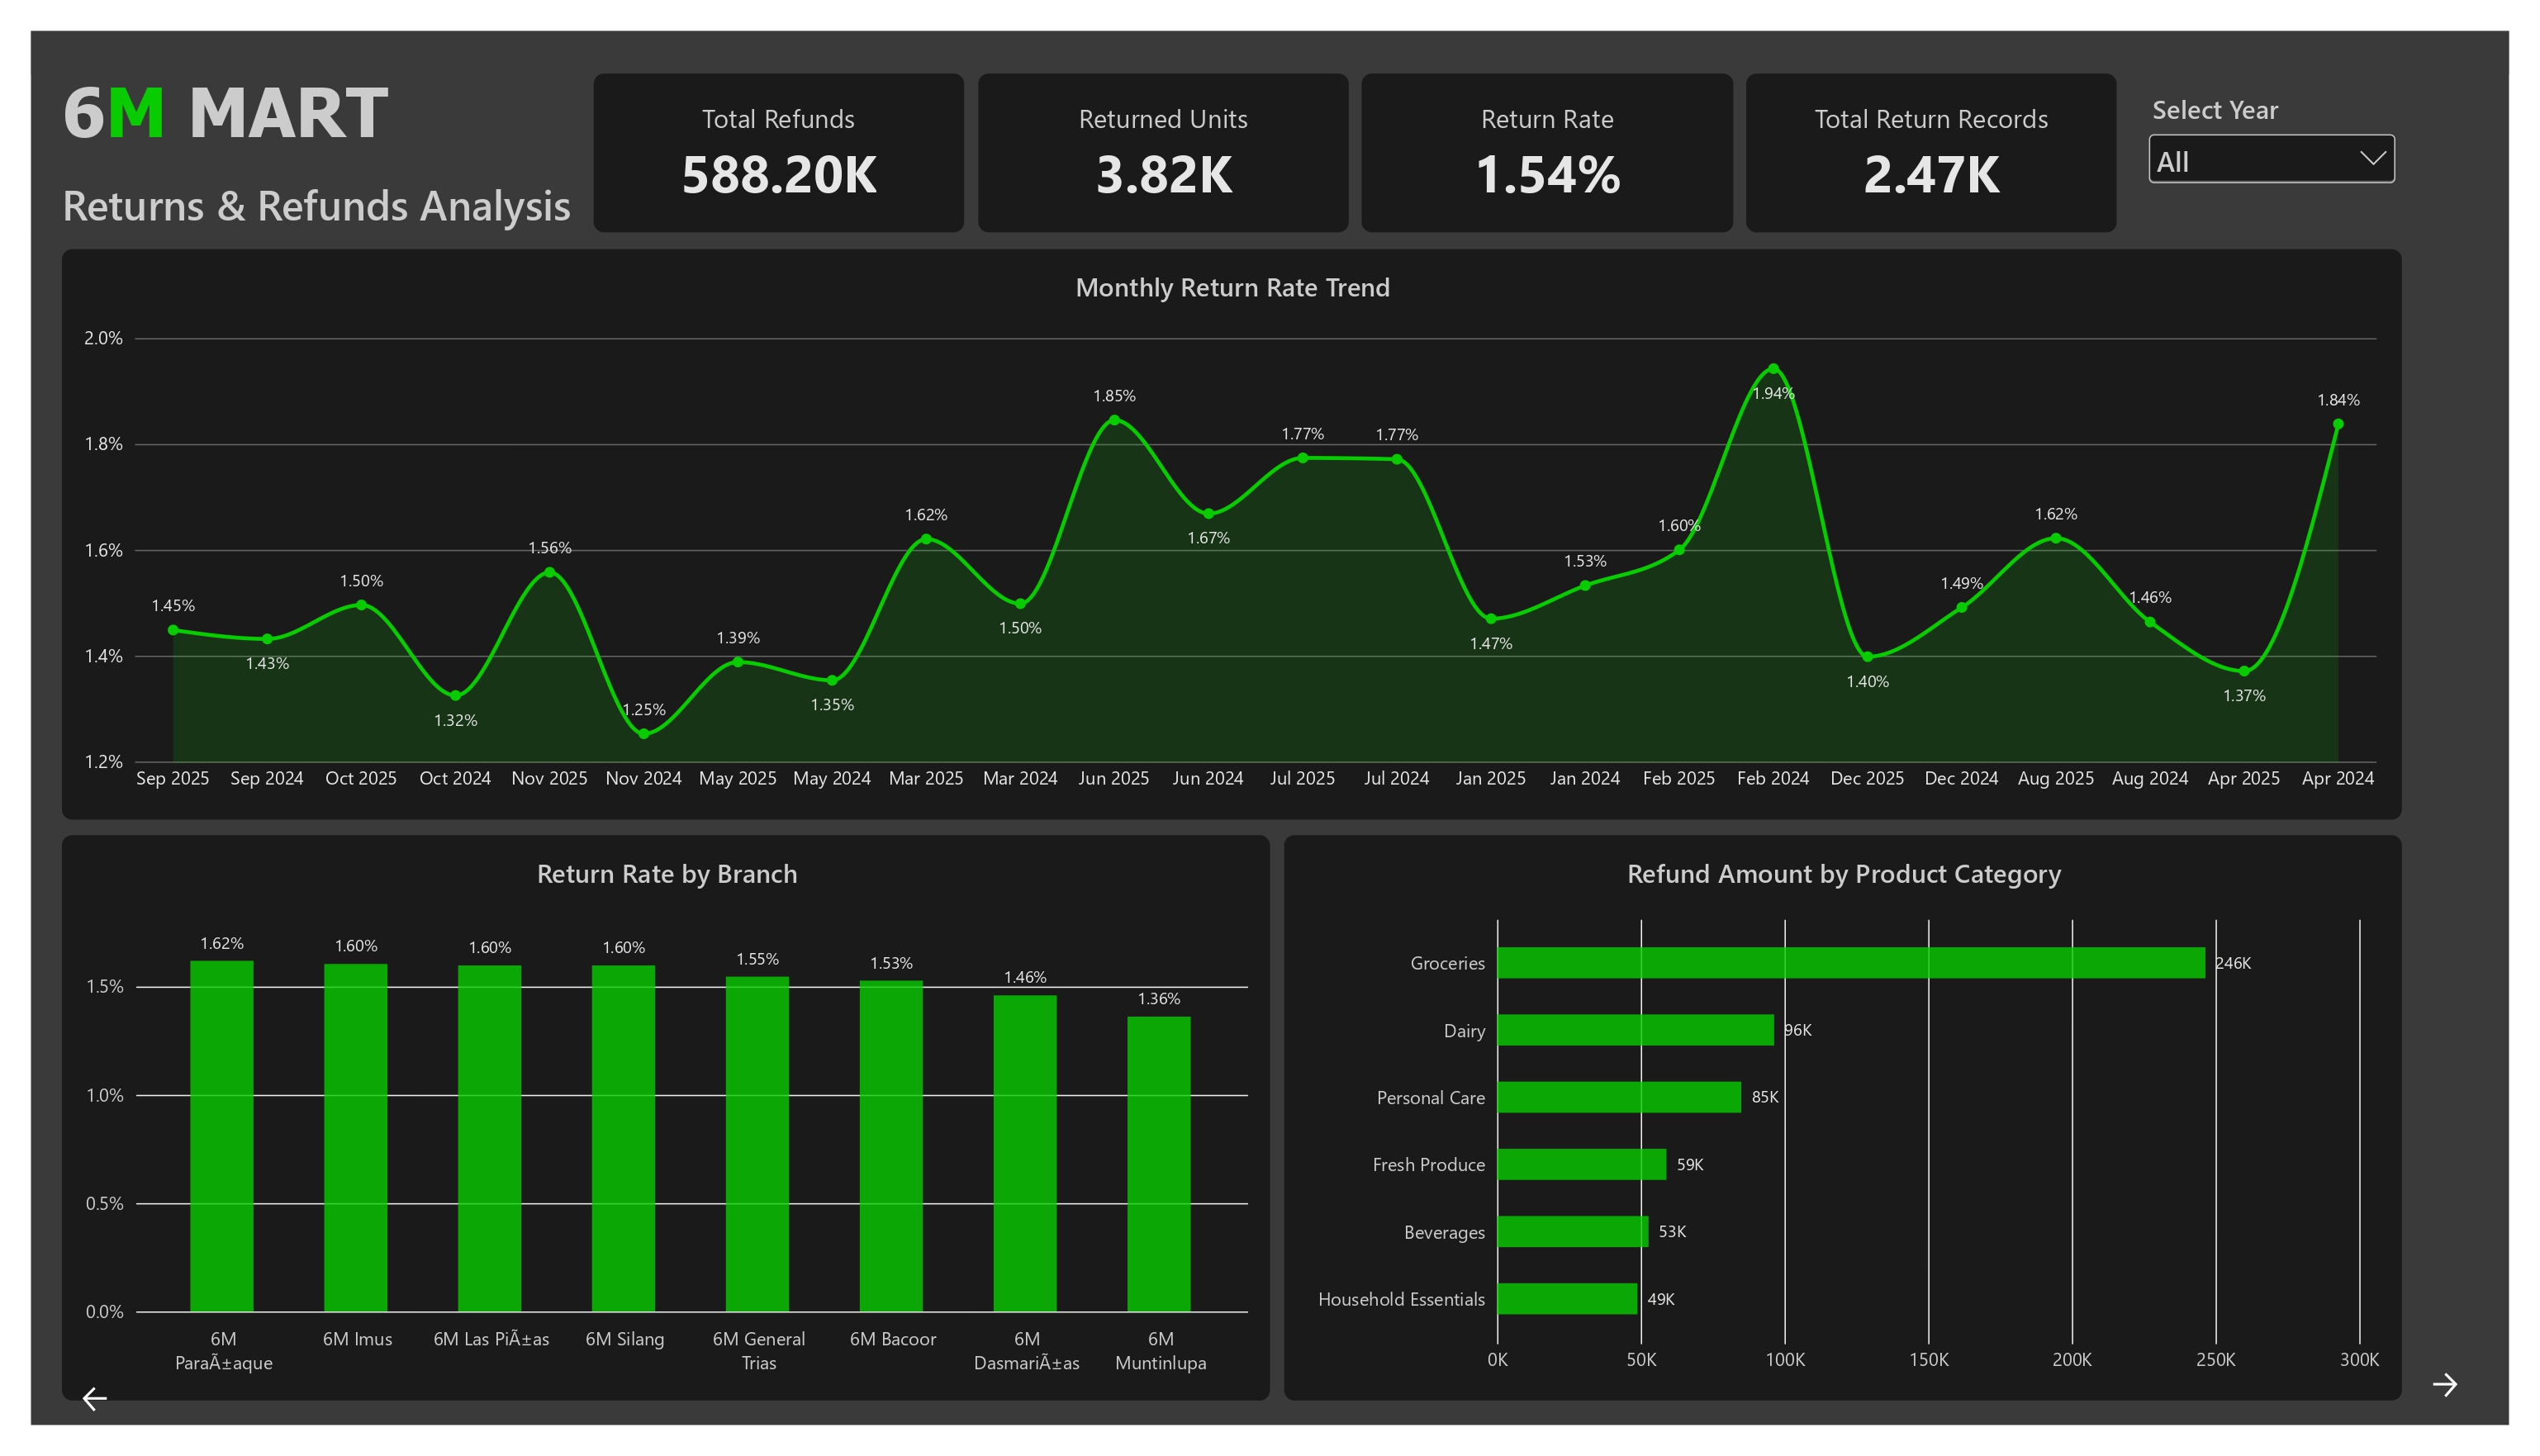

This screenshot's page, from the dashboard's own definition file:
{"tool":"powerbi","page":{"name":"Returns & Refunds Analysis","canvas":[1920,1080],"ordinal":5},"visuals":[{"type":"textbox","box":[24.3,28.6,402.9,130],"z":0},{"type":"slicer","fields":{"Values":["public dim_date.year"]},"box":[1635.7,45.7,201.4,95.7],"z":1000},{"type":"cardVisual","fields":{"Data":["_Measures.Total Refunds"]},"box":[435.7,32.9,287.1,122.9],"z":2000},{"type":"cardVisual","fields":{"Data":["_Measures.Total Returned Units"]},"box":[734.3,32.9,287.1,122.9],"z":3000},{"type":"cardVisual","fields":{"Data":["_Measures.Return Rate (Sales Cohort)"]},"box":[1031.4,32.9,287.1,122.9],"z":4000},{"type":"cardVisual","fields":{"Data":["_Measures.Total Return Records"]},"box":[1328.6,32.9,287.1,122.9],"z":5000},{"type":"lineChart","title":"Monthly Return Rate Trend","fields":{"Category":["public dim_date.Year-Month"],"Y":["_Measures.Return Rate (Sales Cohort)"]},"box":[24.3,168.6,1812.9,442.9],"z":6000},{"type":"clusteredColumnChart","title":"Return Rate by Branch","fields":{"Category":["public dim_branches.branch_name"],"Y":["_Measures.Return Rate (Sales Cohort)"]},"box":[24.3,622.9,935.7,438.6],"z":7000},{"type":"clusteredBarChart","title":"Refund Amount by Product Category","fields":{"Category":["public dim_products.category"],"Y":["_Measures.Total Refunds"]},"box":[971.4,622.9,865.7,438.6],"z":8000},{"type":"actionButton","box":[1820,1028.6,100,40],"z":8001},{"type":"actionButton","box":[0,1040,100,40],"z":8002}]}

Visuals, with their boxes on the page's 1920x1080 design canvas (x1, y1, x2, y2). These are canvas units, not pixel positions in the 2540x1456 screenshot, which may show the page scaled, cropped or inside an application window:
textbox: {"x1": 24, "y1": 29, "x2": 427, "y2": 159}
slicer - public dim_date.year: {"x1": 1636, "y1": 46, "x2": 1837, "y2": 141}
cardVisual - _Measures.Total Refunds: {"x1": 436, "y1": 33, "x2": 723, "y2": 156}
cardVisual - _Measures.Total Returned Units: {"x1": 734, "y1": 33, "x2": 1021, "y2": 156}
cardVisual - _Measures.Return Rate (Sales Cohort): {"x1": 1031, "y1": 33, "x2": 1318, "y2": 156}
cardVisual - _Measures.Total Return Records: {"x1": 1329, "y1": 33, "x2": 1616, "y2": 156}
"Monthly Return Rate Trend" lineChart: {"x1": 24, "y1": 169, "x2": 1837, "y2": 612}
"Return Rate by Branch" clusteredColumnChart: {"x1": 24, "y1": 623, "x2": 960, "y2": 1062}
"Refund Amount by Product Category" clusteredBarChart: {"x1": 971, "y1": 623, "x2": 1837, "y2": 1062}
actionButton: {"x1": 1820, "y1": 1029, "x2": 1920, "y2": 1069}
actionButton: {"x1": 0, "y1": 1040, "x2": 100, "y2": 1080}
